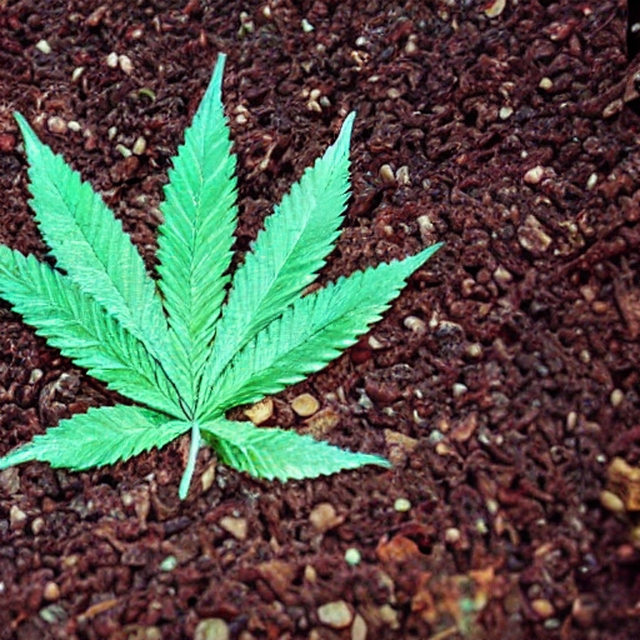Marijuana Leaf: (0, 50, 446, 499)
